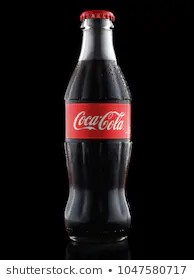coke-glass-bottle: (56, 7, 136, 241)
